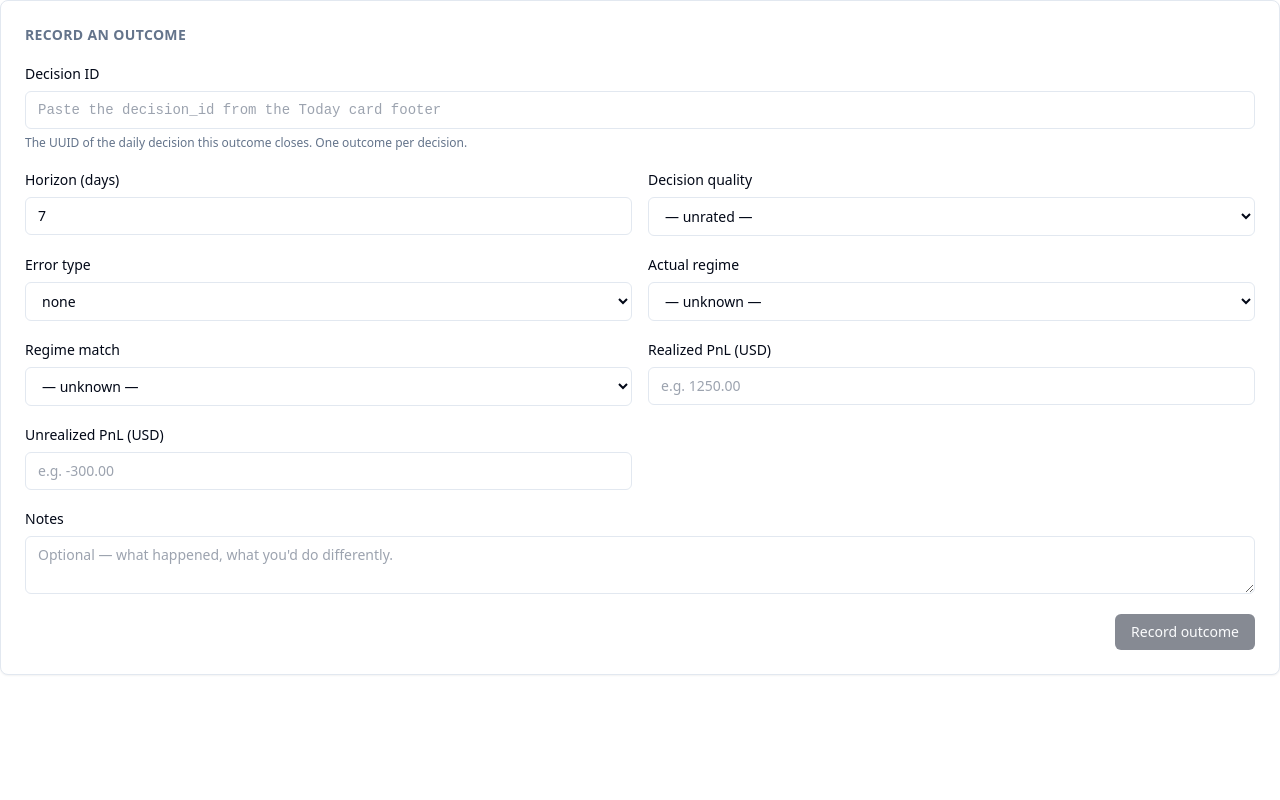
Test: OutcomeEntryForm › reports success and resets the decision id after a create
Type "aaaaaaaa-aaaa-aaaa-aaaa-aaaaaaaaaaaa" into the field with test id "field-new-daily_decision_id" at coordinates (640, 110), box [25,91,1255,129]
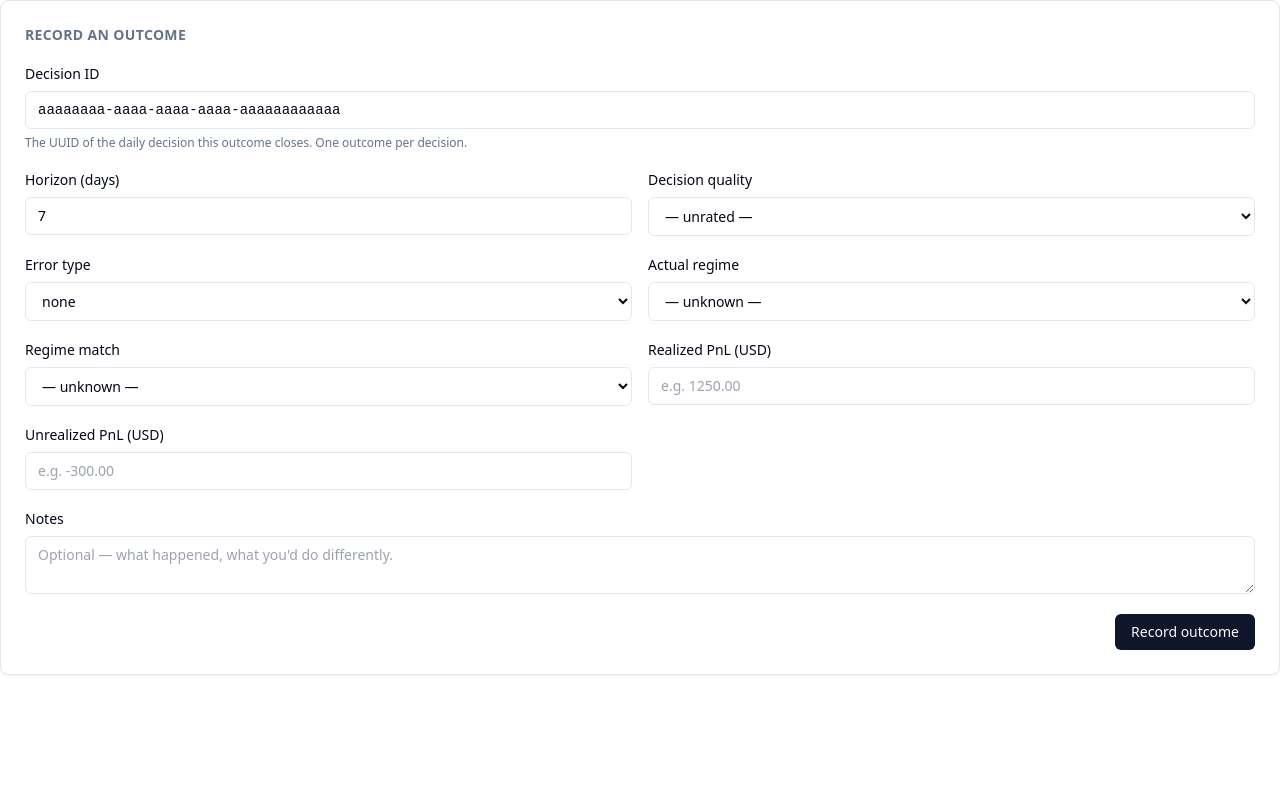
Submit the form with test id "outcome-entry-form"
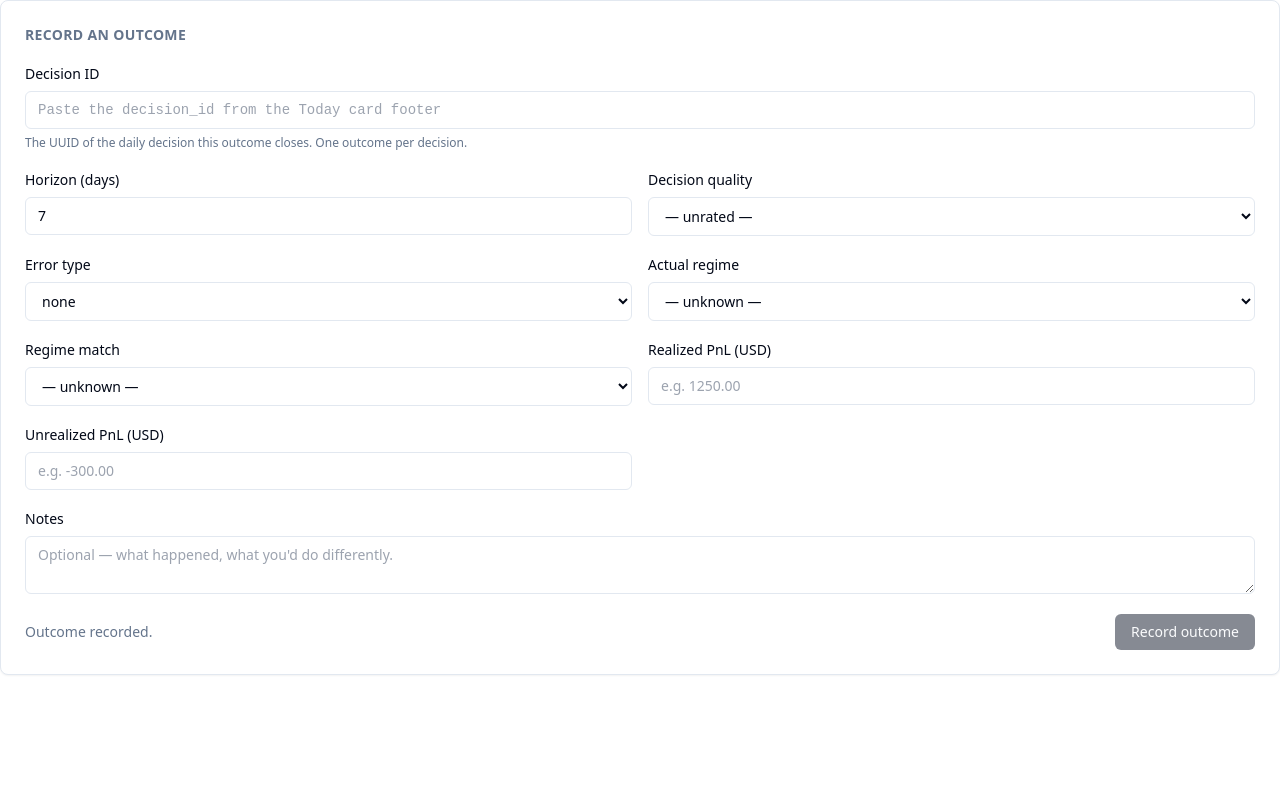
Expected: the text with test id "entry-status" shows "recorded", [25,622,152,641]
Expected: the field with test id "field-new-daily_decision_id" is empty, [25,91,1255,129]
